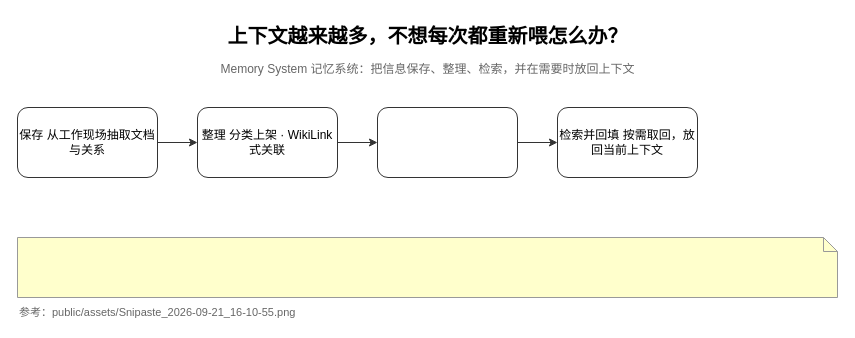
The diagram is 855 pixels wide and 338 high, and some of its shapes have lost their labels. The centre of each missing label's shape, as x and y in pixels:
"Markdown | WikiLink 双向链接 | RAG | 知识图谱 | Ontology 本体论" belongs at (427,267).
"入库 外挂大脑：知识库 + 数据库" belongs at (447,142).
